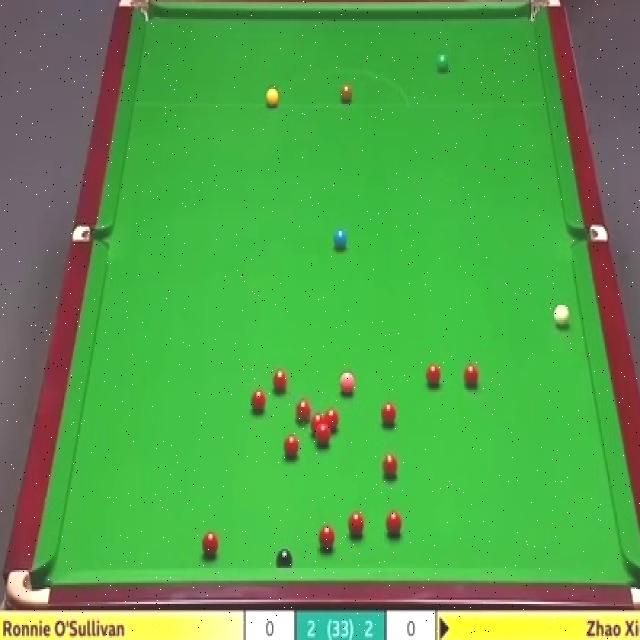black-ball: (276, 550, 292, 566)
blue-ball: (332, 228, 347, 250)
brown-ball: (339, 83, 354, 104)
green-ball: (437, 50, 448, 72)
pink-ball: (338, 365, 353, 391)
red-ball: (347, 512, 365, 540), (315, 422, 332, 451), (381, 454, 398, 482), (249, 387, 267, 413), (201, 530, 219, 556), (317, 524, 335, 550), (322, 407, 340, 432), (282, 432, 298, 460), (295, 399, 311, 425), (272, 370, 288, 394), (463, 364, 479, 388), (311, 413, 326, 438), (426, 364, 442, 386), (386, 512, 402, 534), (382, 401, 396, 426)
white-ball: (554, 303, 569, 328)
yellow-ball: (263, 87, 280, 108)
